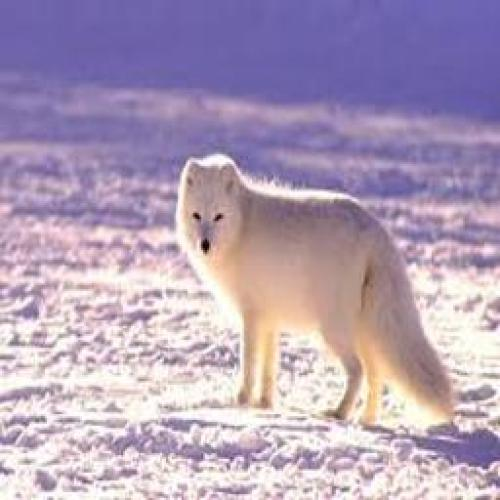arctic_fox-endangered: (174, 159, 450, 424)
